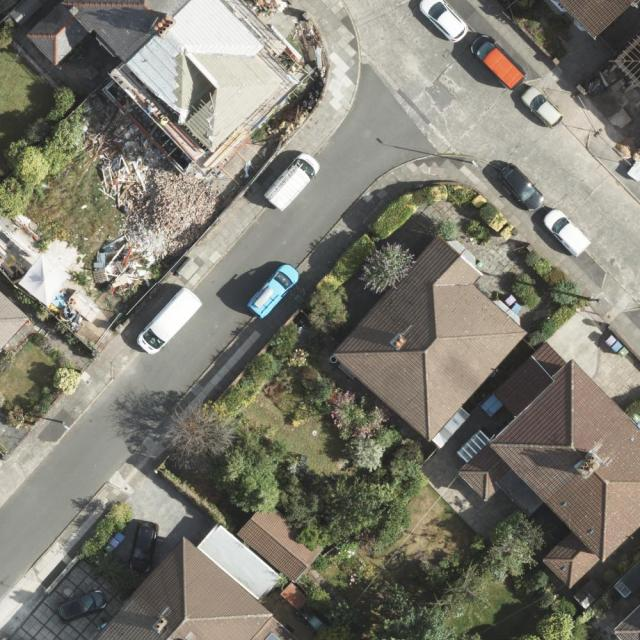roof: (456, 340, 640, 590), (331, 240, 527, 452), (29, 0, 288, 155), (97, 503, 326, 640), (557, 0, 635, 40), (612, 601, 640, 640), (617, 560, 639, 601)
